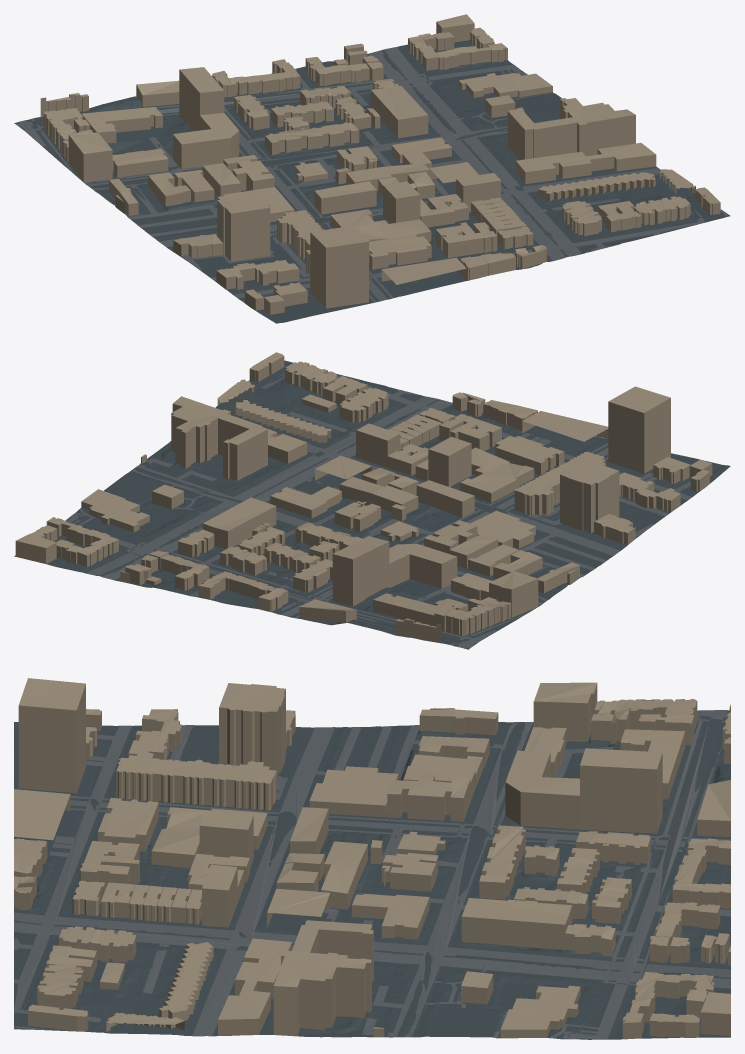
File: epsg26910-1432-10889.lod0.glb
3 renders of one model, top to bottom at view 1: azimuth 30°, elevation 25°; view 2: azimuth 150°, elevation 25°; view 3: azimuth 270°, elevation 25°, orthographic. The views are drawn at different scales.
Parts seen in each view (by area): view 1: epsg26910-1432-10889-lod0; view 2: epsg26910-1432-10889-lod0; view 3: epsg26910-1432-10889-lod0.
Boxes of the visible parts, x1,y1,x2,y2 form: epsg26910-1432-10889-lod0: [14, 14, 730, 323]; epsg26910-1432-10889-lod0: [14, 352, 730, 649]; epsg26910-1432-10889-lod0: [14, 678, 730, 1039].
Bounding box in the file's own units: 384 × 56.35 × 384.
